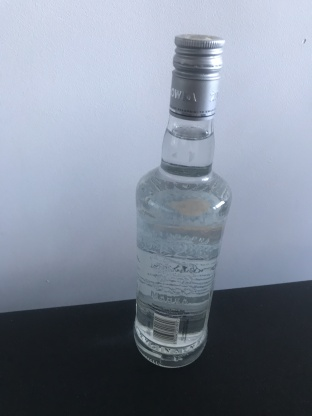nakretka: (167, 29, 226, 123)
